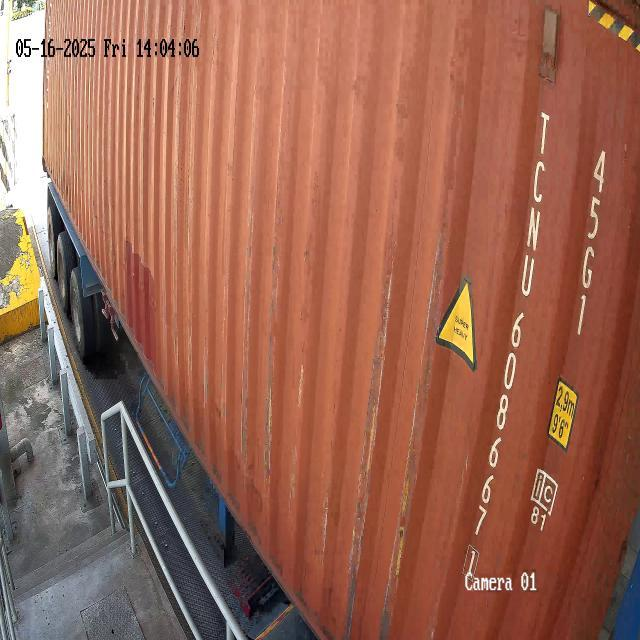ISO: (562, 134, 620, 348)
container_number: (450, 102, 562, 594)
